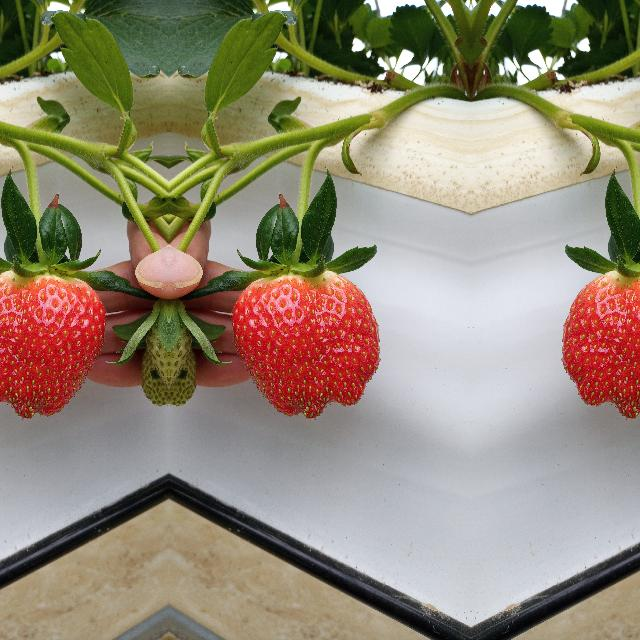Health_100: (230, 270, 380, 420), (0, 269, 106, 420), (561, 269, 640, 420)
